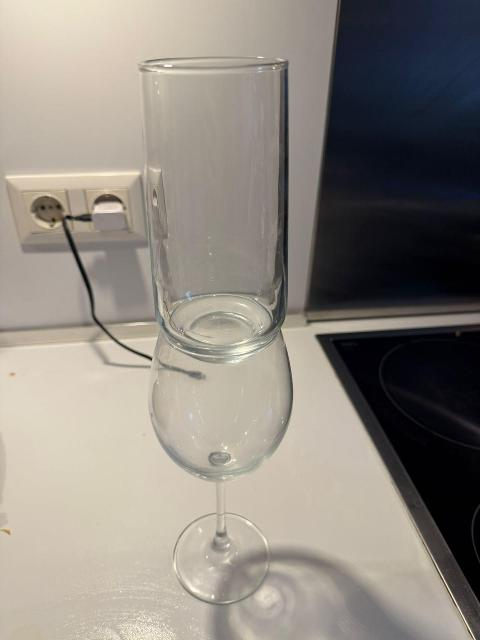Cam: (124, 324, 303, 607), (137, 56, 293, 344)
